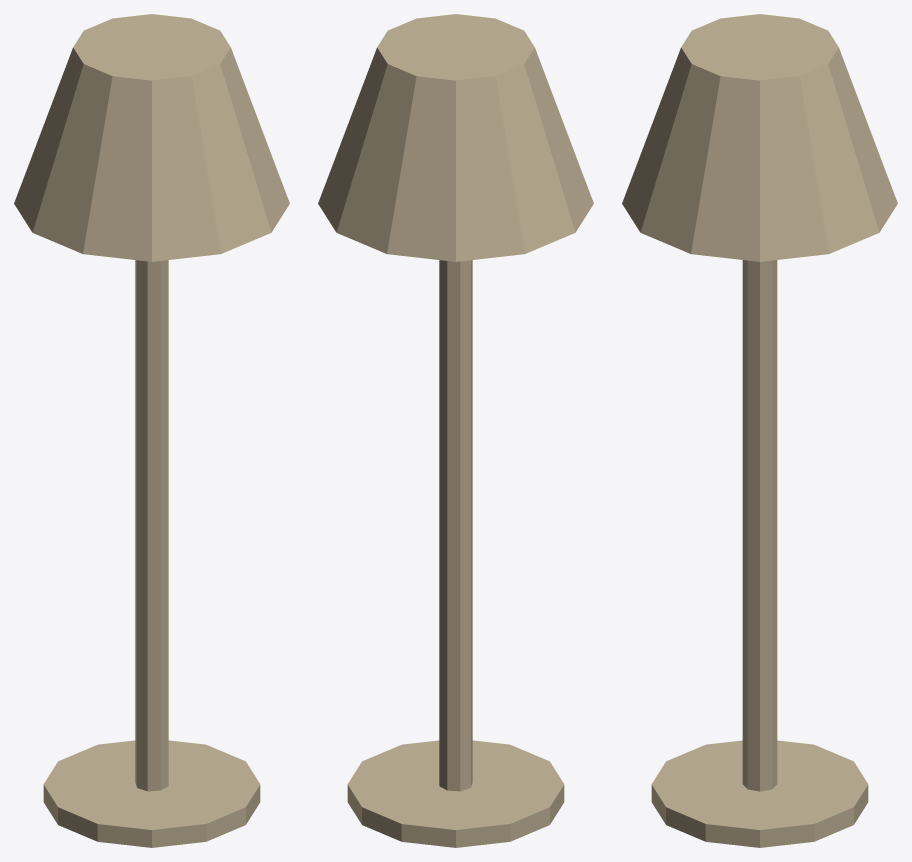
Rendered from SS_Lamp.glb.
3 views of the same model, side by side, from view 1: azimuth 30°, elevation 25°; view 2: azimuth 150°, elevation 25°; view 3: azimuth 270°, elevation 25° (orthographic).
Visible parts, largest first — view 1: PROP_Lamp-col; view 2: PROP_Lamp-col; view 3: PROP_Lamp-col.
Part boxes in pixels (<box>): PROP_Lamp-col: <box>14,14,289,847</box>; PROP_Lamp-col: <box>318,14,593,847</box>; PROP_Lamp-col: <box>622,14,897,847</box>.
Size of the model in its own units: 0.56 by 1.69 by 0.56.
